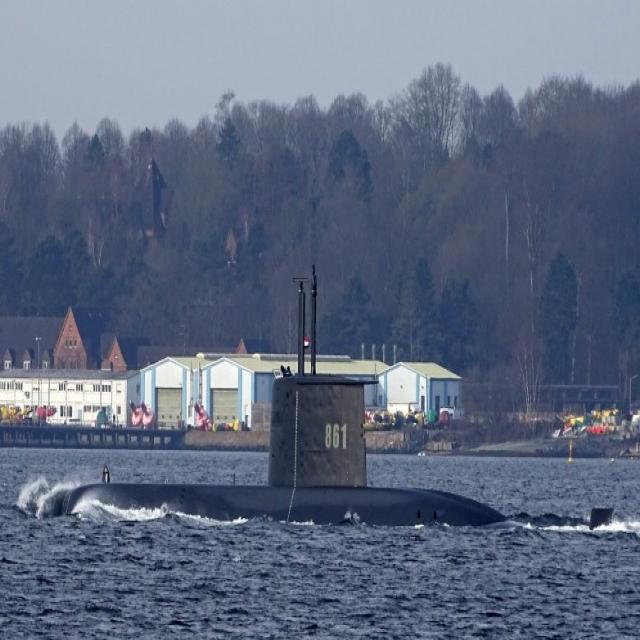submarine: (47, 266, 616, 533)
